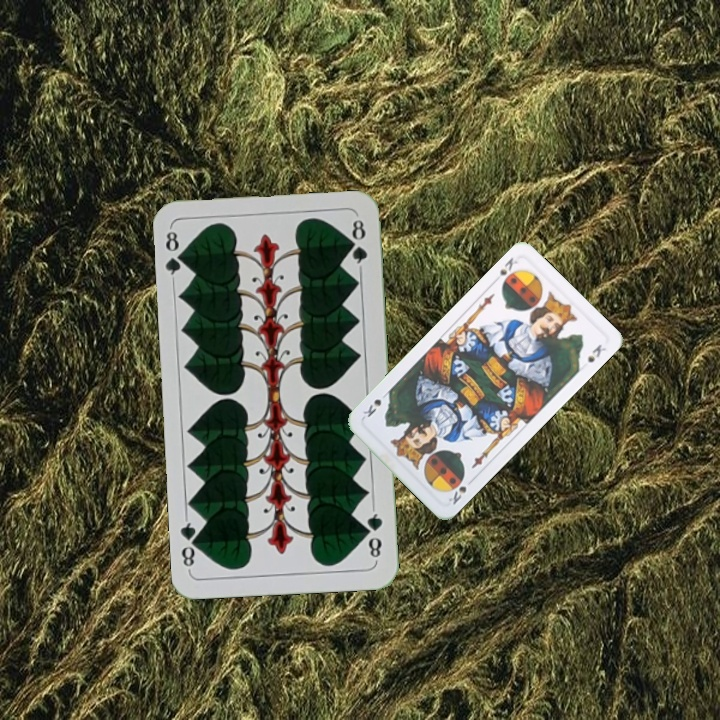G8: (161, 225, 189, 284), (361, 504, 385, 564)
SK: (489, 253, 520, 286), (444, 482, 469, 507)
